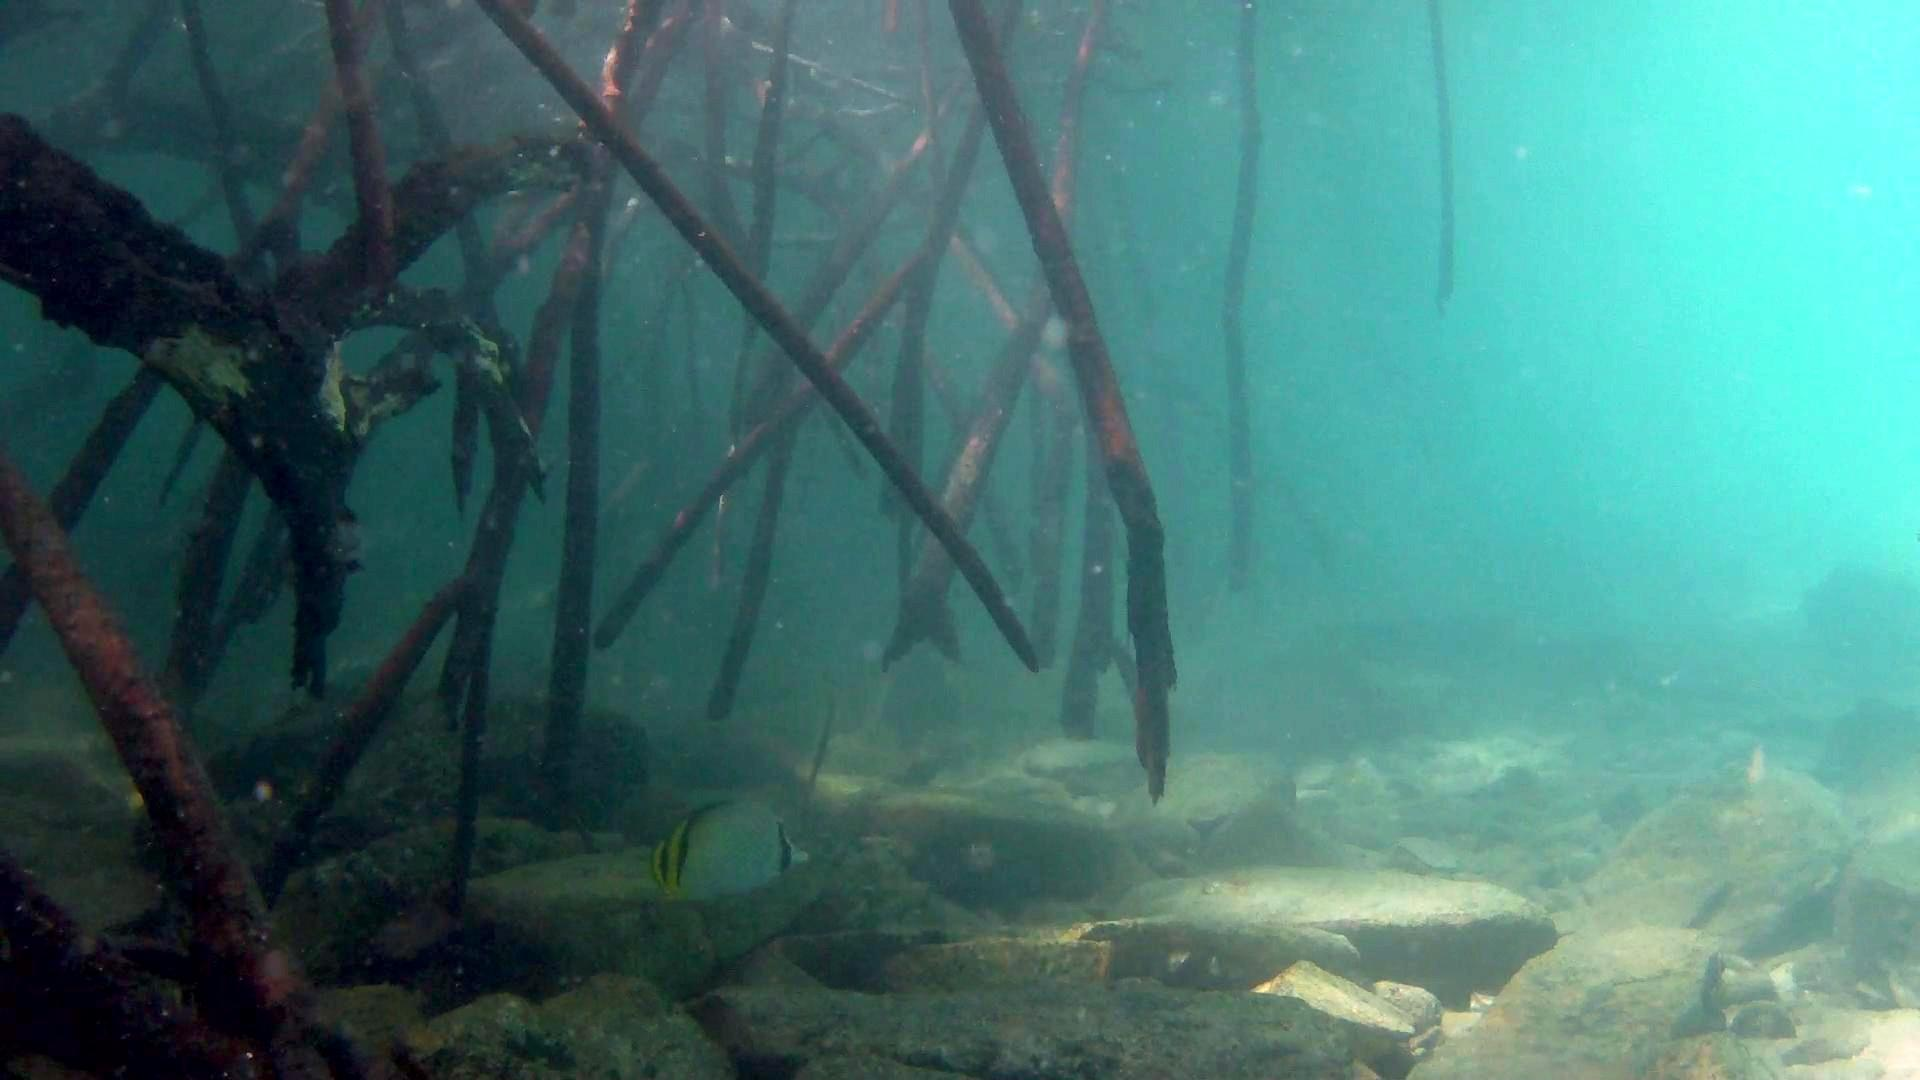chaetodon vagabundus: (644, 794, 814, 905)
